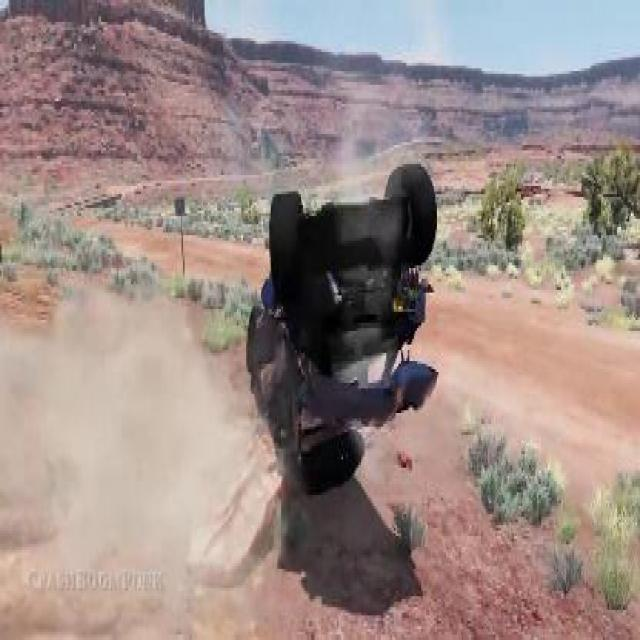accident: (239, 145, 443, 490)
